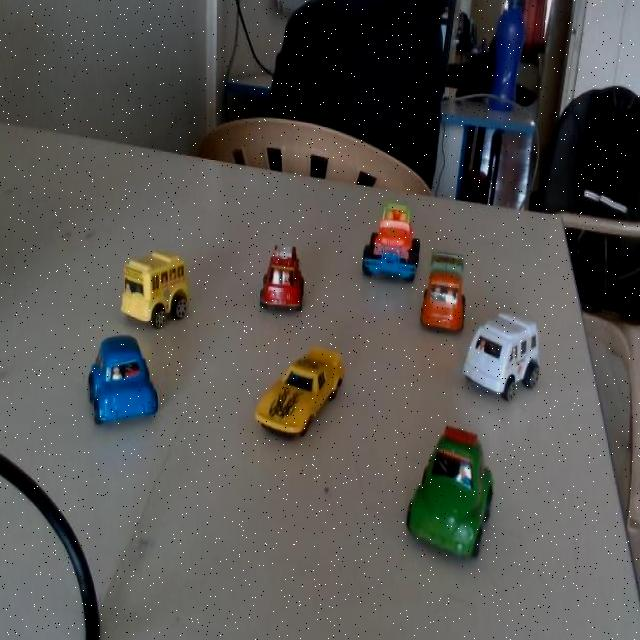car: (373, 408, 549, 618), (442, 282, 564, 434), (240, 339, 368, 455), (84, 330, 164, 436), (350, 190, 424, 284), (124, 249, 201, 339), (417, 237, 479, 346), (254, 235, 318, 328)
